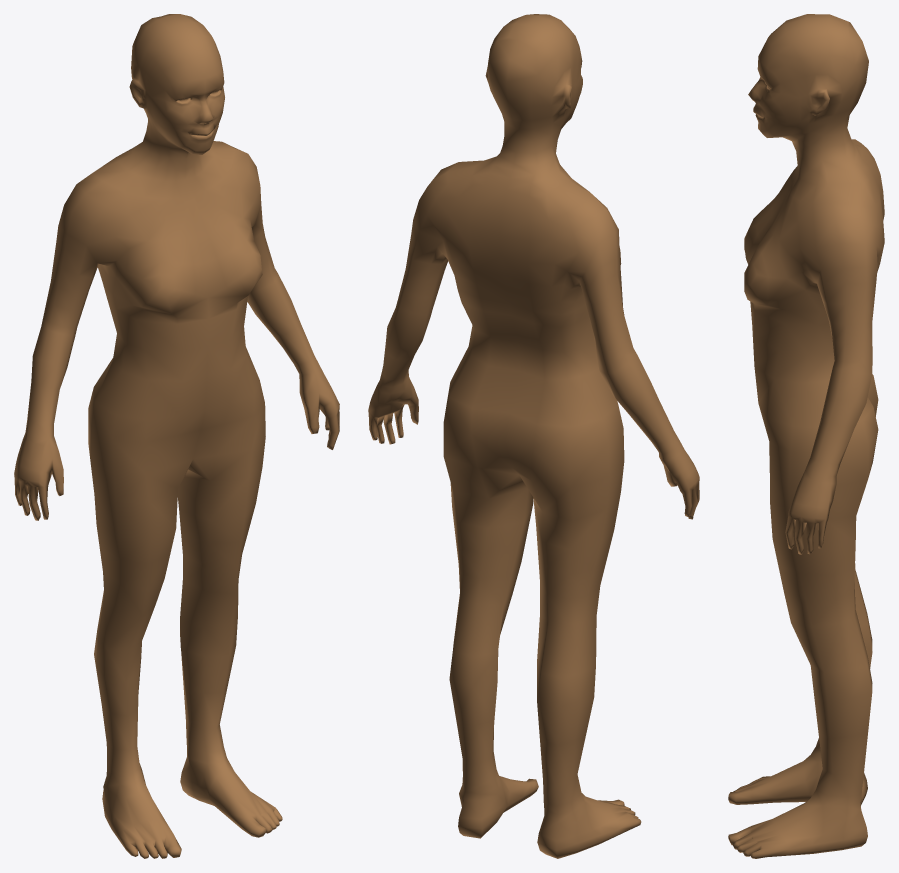
The model's file is Lady.glb.
3 renders of one model, left to right at view 1: azimuth 30°, elevation 25°; view 2: azimuth 150°, elevation 25°; view 3: azimuth 270°, elevation 25°, orthographic.
Visible parts, largest first — view 1: Female.004; view 2: Female.004; view 3: Female.004.
Boxes of the visible parts, <box> form: Female.004: <box>14,14,339,858</box>; Female.004: <box>368,14,699,858</box>; Female.004: <box>728,14,884,858</box>.
Size of the model in its own units: 0.6243 by 1.5 by 0.2641.
